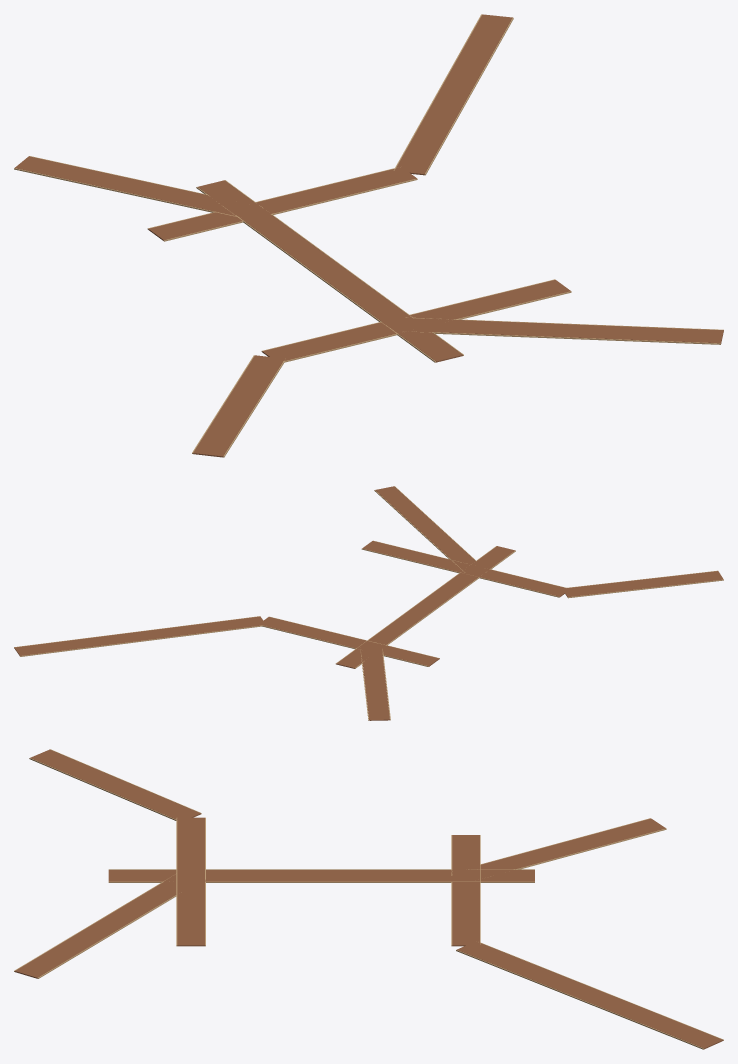
The model's file is paths.glb.
3 renders of one model, top to bottom at view 1: azimuth 30°, elevation 25°; view 2: azimuth 150°, elevation 25°; view 3: azimuth 270°, elevation 25°, orthographic. The views are drawn at different scales.
Visible parts, largest first — view 1: paths; view 2: paths; view 3: paths.
Part boxes in pixels (x1,y1,x2,y2): paths: (14, 14, 723, 457); paths: (14, 486, 723, 720); paths: (14, 749, 723, 1049).
Bounding box in the file's own units: 51.56 × 0.08 × 51.63.
